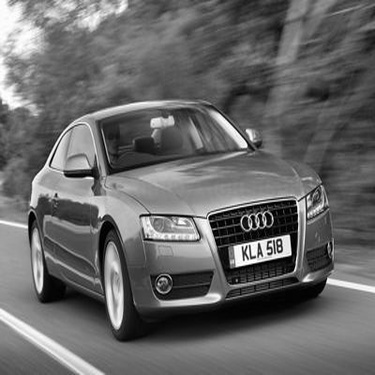car: (22, 90, 341, 346)
